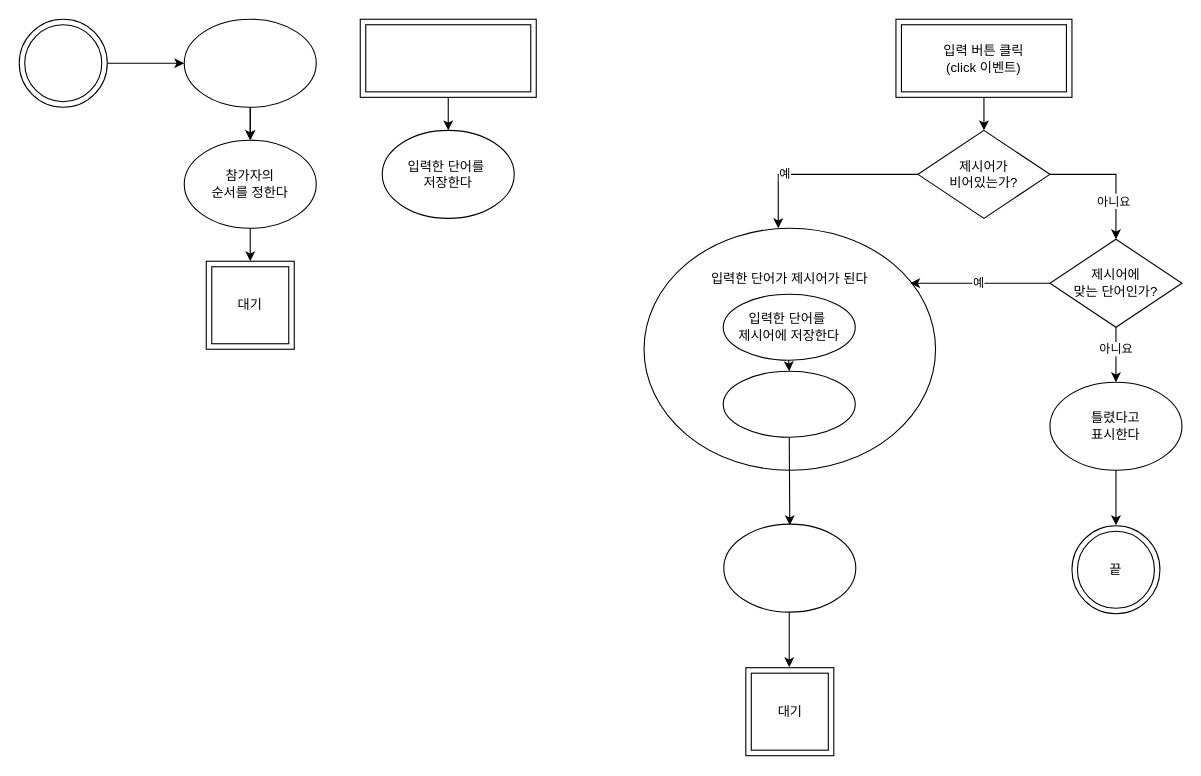
Some shapes in this 1201 by 776 pixel diagram are drawn without their labels. The centre of each missing label's shape, as x and y in pixels:
"다음 참가자에게 차례를 넘긴다" belongs at (x=789, y=567).
"단어 입력 (Input 이벤트)" belongs at (x=448, y=58).
"몇 명이 참가할지 선택한다" belongs at (x=249, y=62).
"시작" belongs at (x=63, y=63).
"제시어를 화면에 표시한다" belongs at (x=788, y=403).
